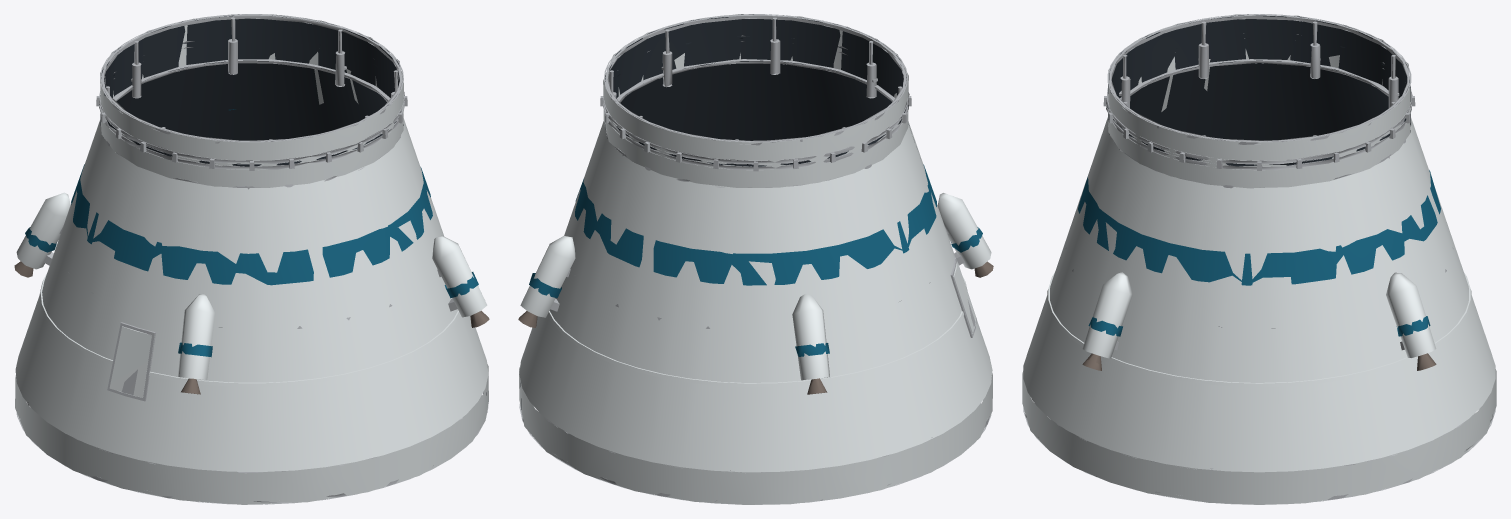
The model's file is interstage_pyro_d84_to_d54.glb.
The picture shows the model from 3 angles, left to right: view 1: azimuth 30°, elevation 25°; view 2: azimuth 150°, elevation 25°; view 3: azimuth 270°, elevation 25°; orthographic projection.
Visible parts, largest first — view 1: interstage_pyro_d84_to_d54_mesh; view 2: interstage_pyro_d84_to_d54_mesh; view 3: interstage_pyro_d84_to_d54_mesh.
Part boxes in pixels (<box>): interstage_pyro_d84_to_d54_mesh: <box>14,14,489,504</box>; interstage_pyro_d84_to_d54_mesh: <box>518,14,993,504</box>; interstage_pyro_d84_to_d54_mesh: <box>1022,14,1496,504</box>.
Size of the model in its own units: 8.4 by 6.4 by 8.42.
